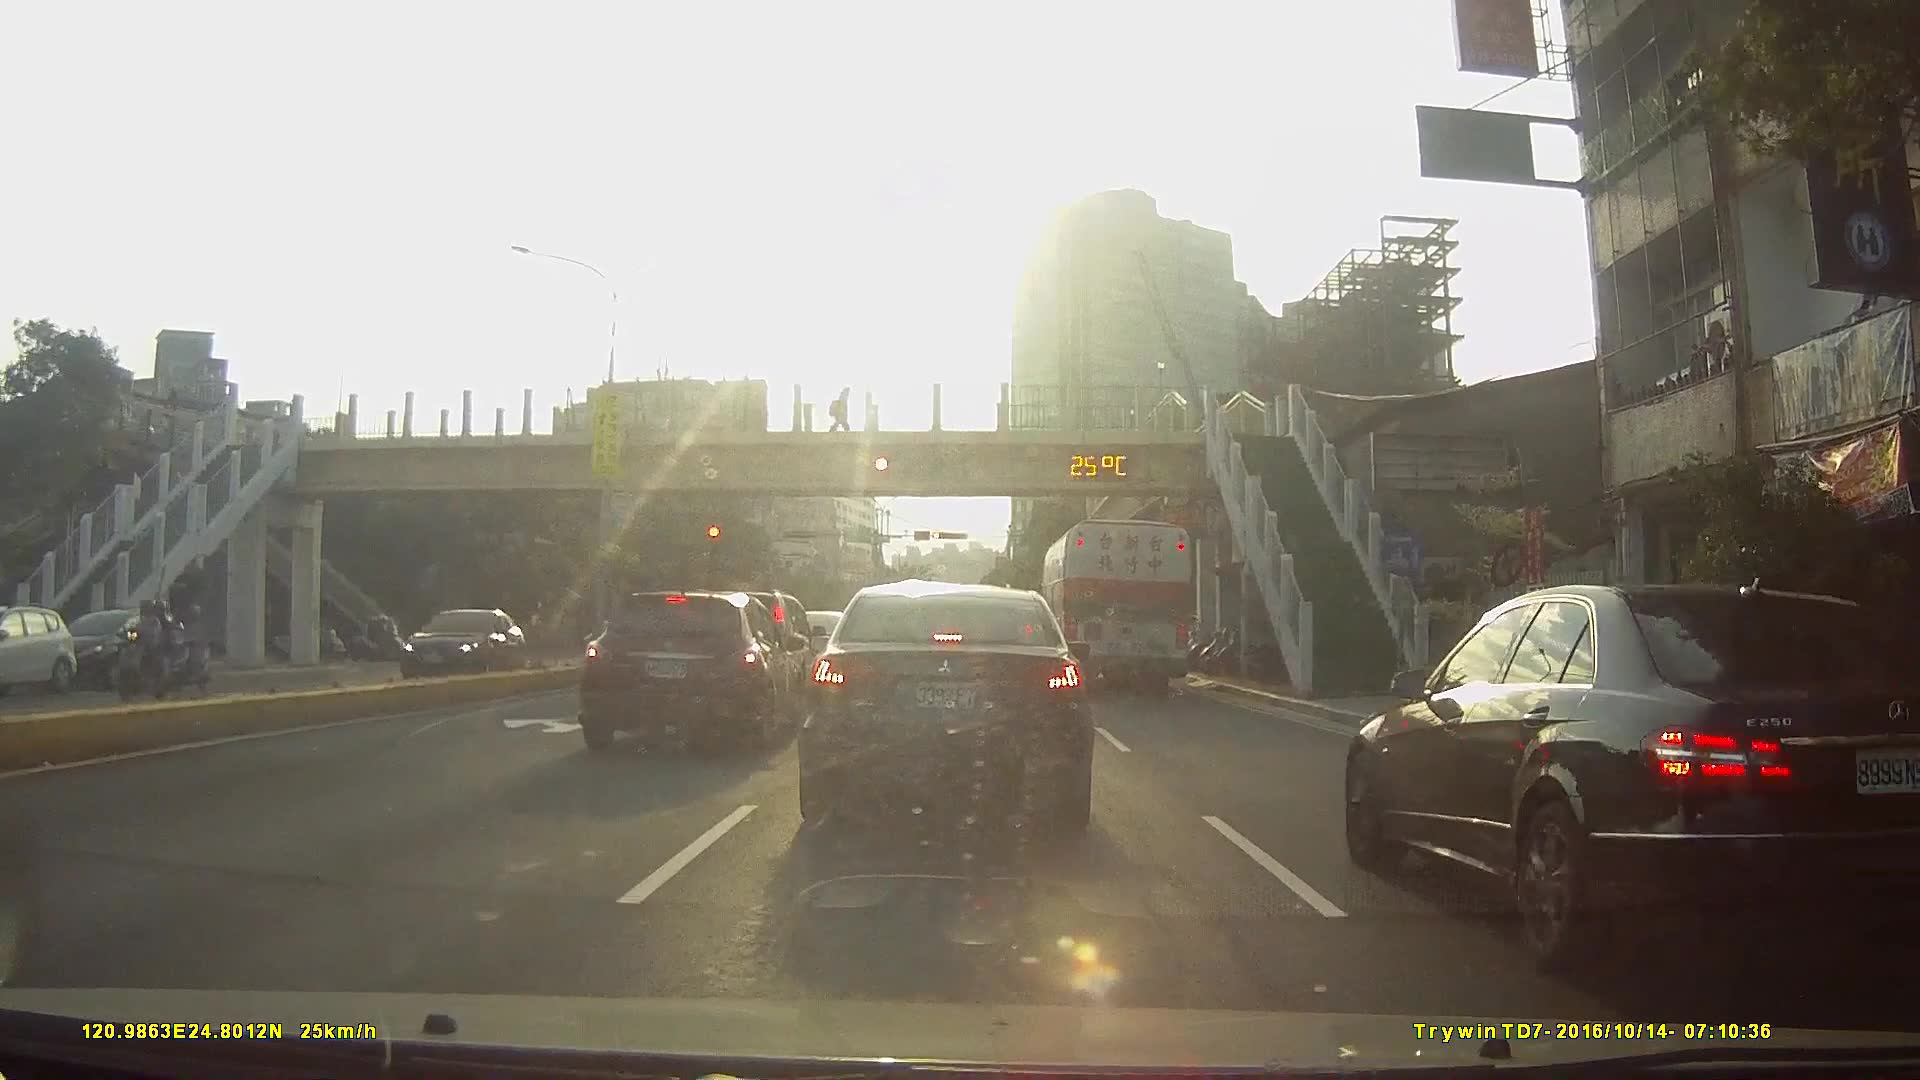pedestrian: (830, 387, 852, 435)
rider: (112, 594, 173, 701), (157, 607, 217, 692), (352, 613, 420, 663)
vehicle: (1339, 581, 1920, 962), (795, 579, 1094, 830), (573, 584, 805, 753), (1039, 516, 1197, 697), (53, 607, 185, 691), (385, 606, 522, 678), (0, 602, 75, 695)
